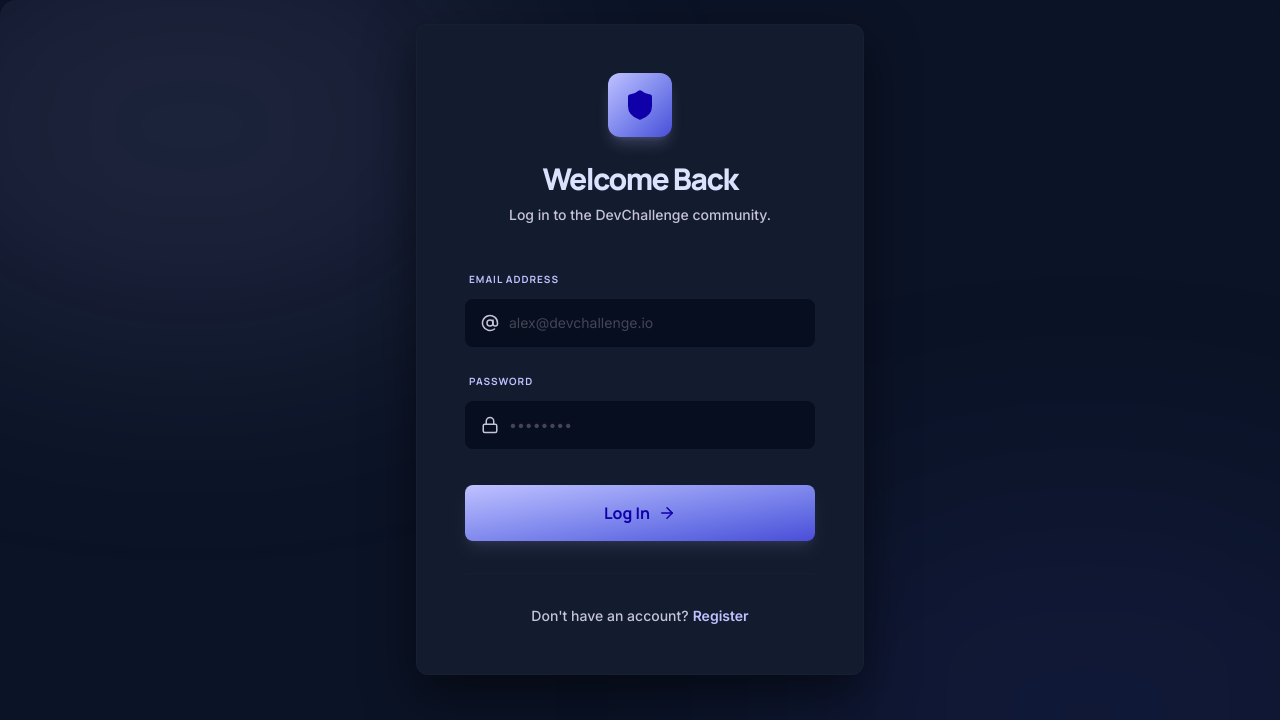
Authentication Flow › should allow users to logout
Step 1. Type "dev@nexus.io" into the field with id "email" → (640,323), box x1=465 y1=299 x2=815 y2=347
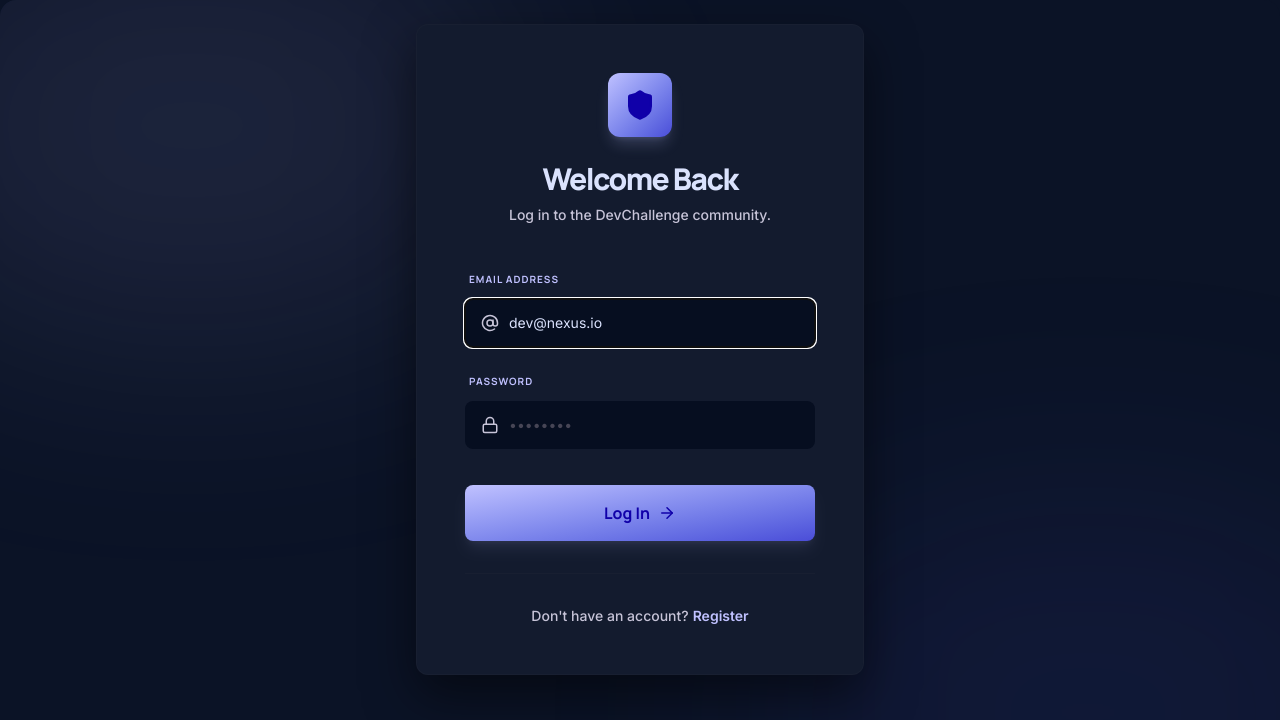
Step 2. Type "password123" into the password field labelled "Password" → (640,425), box x1=465 y1=401 x2=815 y2=449
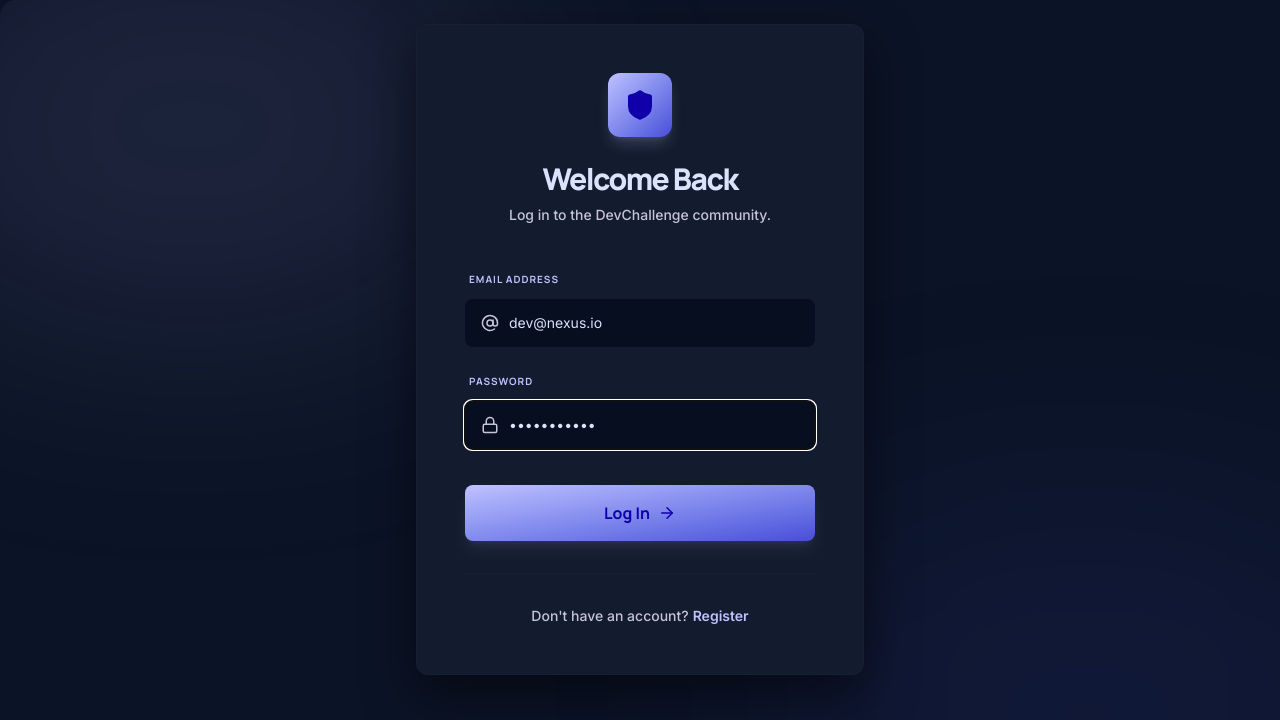
Step 3. Click the submit button → (640,513), box x1=465 y1=485 x2=815 y2=541
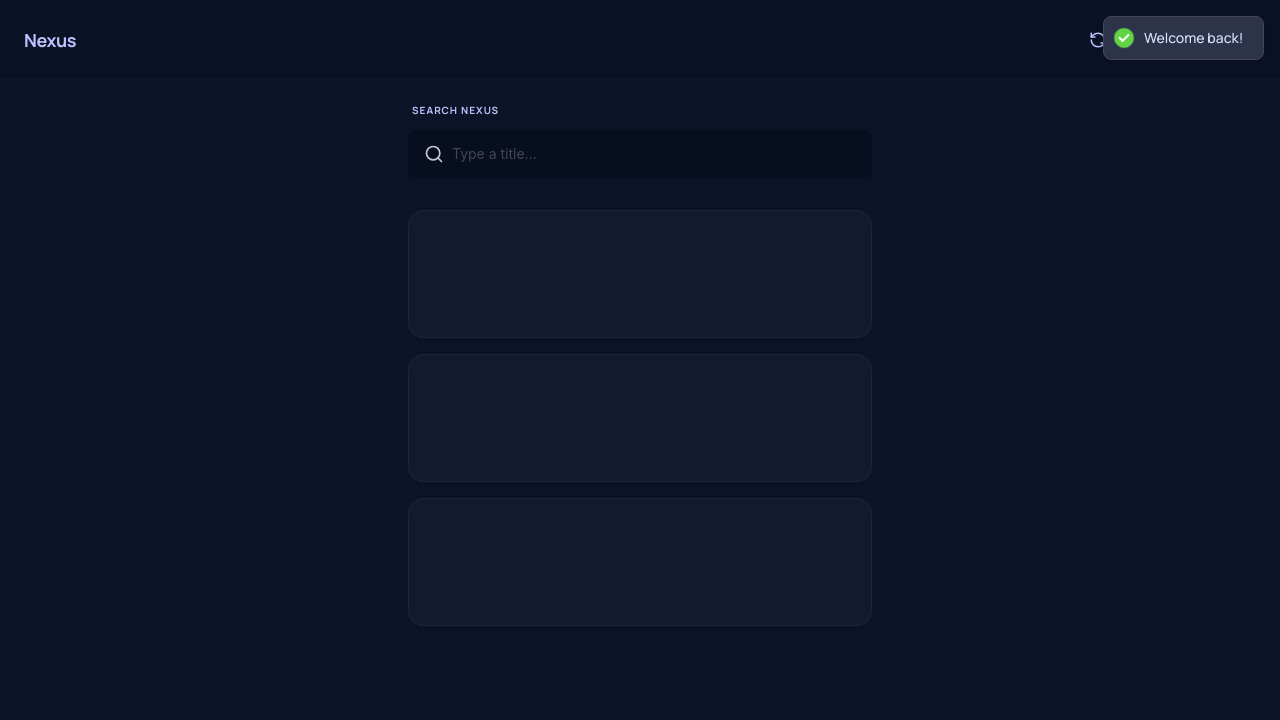
Click logout
Step 4. Click the button titled "Logout" → (1239,40), box x1=1222 y1=23 x2=1256 y2=57
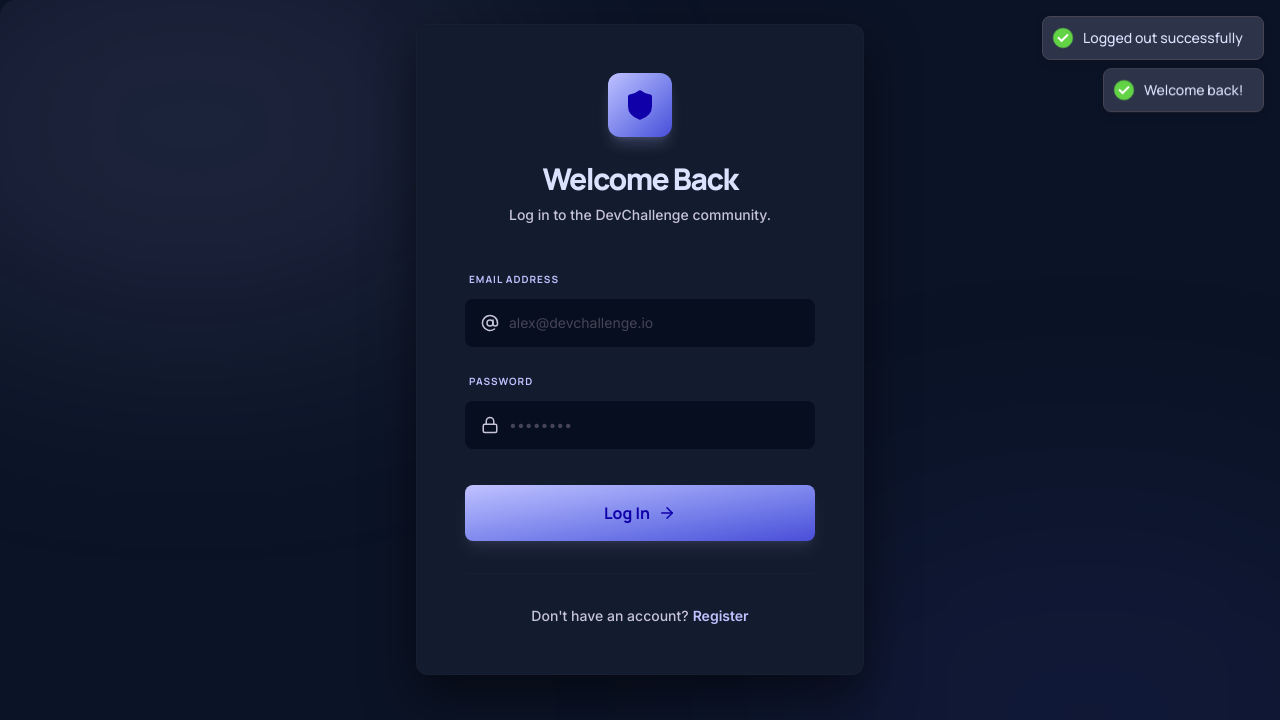
Result: the text "Logged out successfully" is shown at x1=1083 y1=29 x2=1243 y2=47
